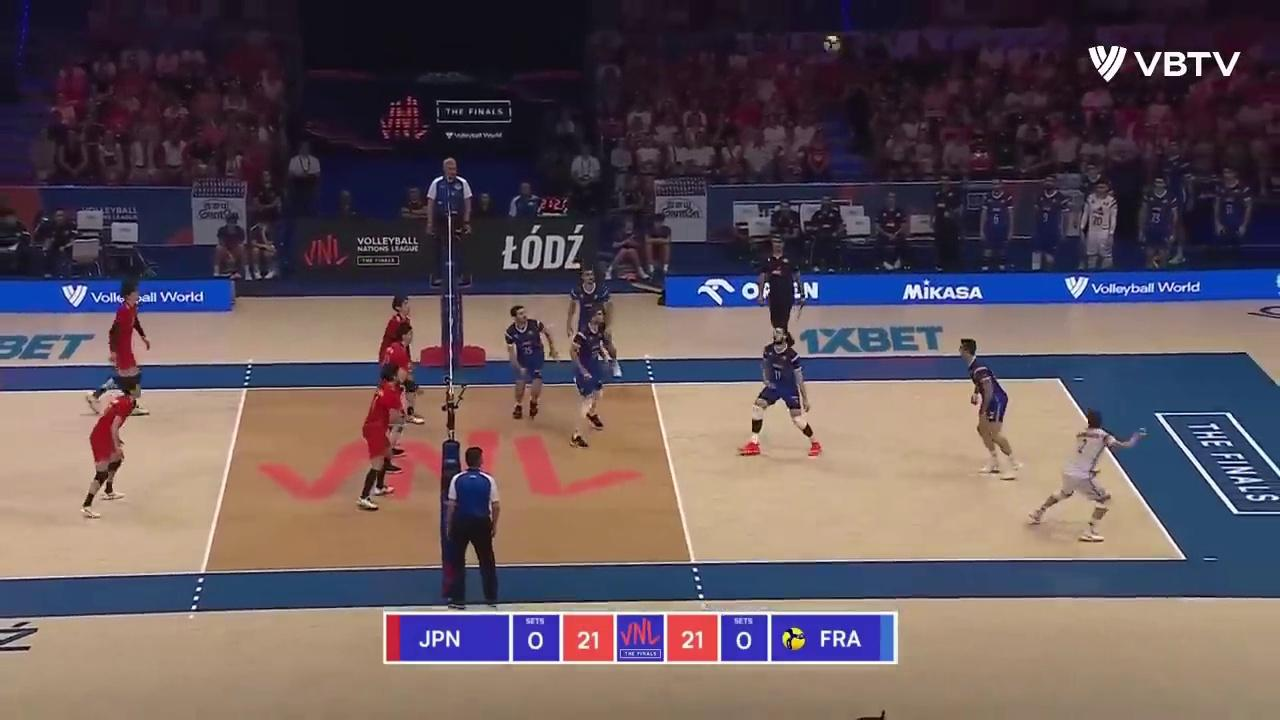ball: (825, 36, 841, 55)
